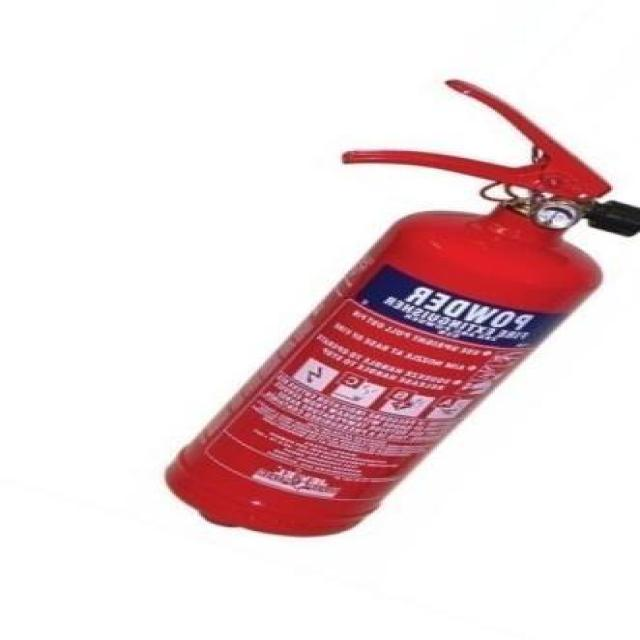fire_extinguisher: (157, 72, 638, 544)
